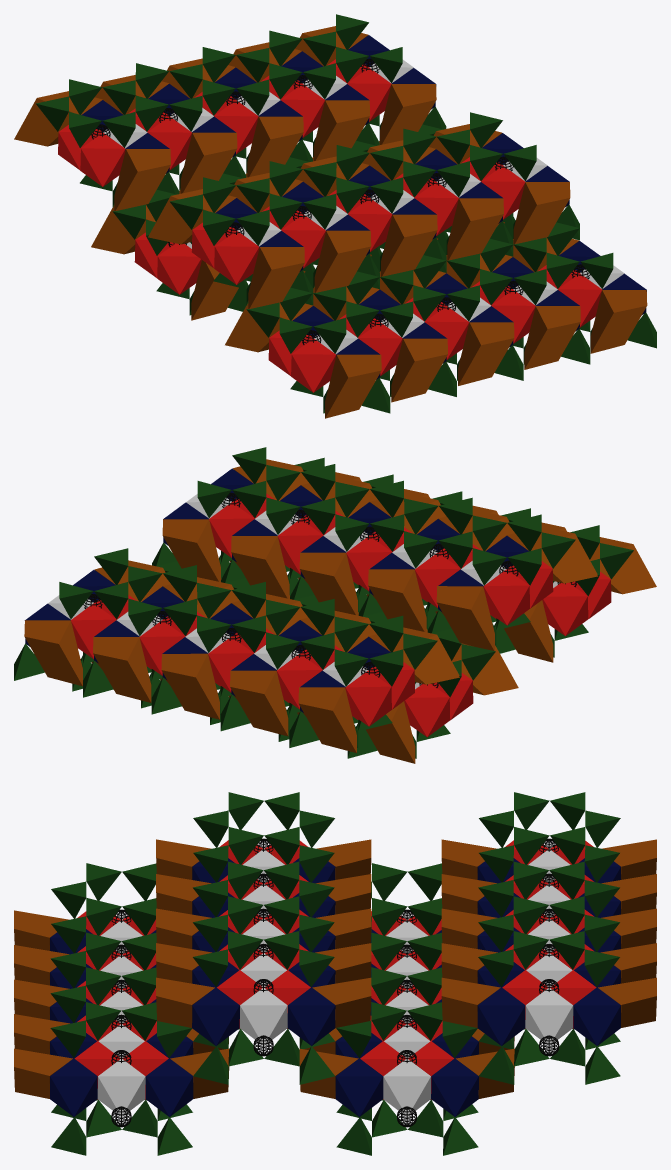
Rendered from Ortoanfibolio.obj.
3 renders of one model, top to bottom at view 1: azimuth 30°, elevation 25°; view 2: azimuth 150°, elevation 25°; view 3: azimuth 270°, elevation 25°, orthographic. The views are drawn at different scales.
Visible parts, largest first — view 1: Ortoanfibolio_full_Cube.016_Site_M4, Ortoanfibolio_full_Cube.016_tetraedros, Ortoanfibolio_full_Cube.016_Coordenacao6, Ortoanfibolio_full_Cube.016_Coordenacao_8, Ortoanfibolio_full_Cube.016_Site_M3, Ortoanfibolio_full_Cube.016_Hidroxila; view 2: Ortoanfibolio_full_Cube.016_Site_M4, Ortoanfibolio_full_Cube.016_tetraedros, Ortoanfibolio_full_Cube.016_Coordenacao6, Ortoanfibolio_full_Cube.016_Coordenacao_8, Ortoanfibolio_full_Cube.016_Site_M3, Ortoanfibolio_full_Cube.016_Hidroxila; view 3: Ortoanfibolio_full_Cube.016_tetraedros, Ortoanfibolio_full_Cube.016_Site_M4, Ortoanfibolio_full_Cube.016_Coordenacao_8, Ortoanfibolio_full_Cube.016_Site_M3, Ortoanfibolio_full_Cube.016_Coordenacao6, Ortoanfibolio_full_Cube.016_Hidroxila.
Boxes of the visible parts, x1,y1,x2,y2 form: Ortoanfibolio_full_Cube.016_Site_M4: (14, 26, 647, 418); Ortoanfibolio_full_Cube.016_tetraedros: (36, 14, 656, 413); Ortoanfibolio_full_Cube.016_Coordenacao6: (58, 59, 602, 392); Ortoanfibolio_full_Cube.016_Coordenacao_8: (81, 35, 646, 379); Ortoanfibolio_full_Cube.016_Site_M3: (103, 59, 624, 353); Ortoanfibolio_full_Cube.016_Hidroxila: (91, 58, 590, 344); Ortoanfibolio_full_Cube.016_Site_M4: (24, 459, 656, 763); Ortoanfibolio_full_Cube.016_tetraedros: (14, 447, 633, 758); Ortoanfibolio_full_Cube.016_Coordenacao6: (71, 493, 611, 737); Ortoanfibolio_full_Cube.016_Coordenacao_8: (24, 468, 528, 712); Ortoanfibolio_full_Cube.016_Site_M3: (48, 494, 559, 689); Ortoanfibolio_full_Cube.016_Hidroxila: (83, 492, 576, 687); Ortoanfibolio_full_Cube.016_tetraedros: (50, 792, 620, 1155); Ortoanfibolio_full_Cube.016_Site_M4: (14, 839, 656, 1098); Ortoanfibolio_full_Cube.016_Coordenacao_8: (50, 858, 620, 1116); Ortoanfibolio_full_Cube.016_Site_M3: (97, 849, 573, 1116); Ortoanfibolio_full_Cube.016_Coordenacao6: (74, 840, 596, 1099); Ortoanfibolio_full_Cube.016_Hidroxila: (111, 838, 559, 1127).
Size of the model in its own units: 1.9 by 0.7109 by 2.56.
